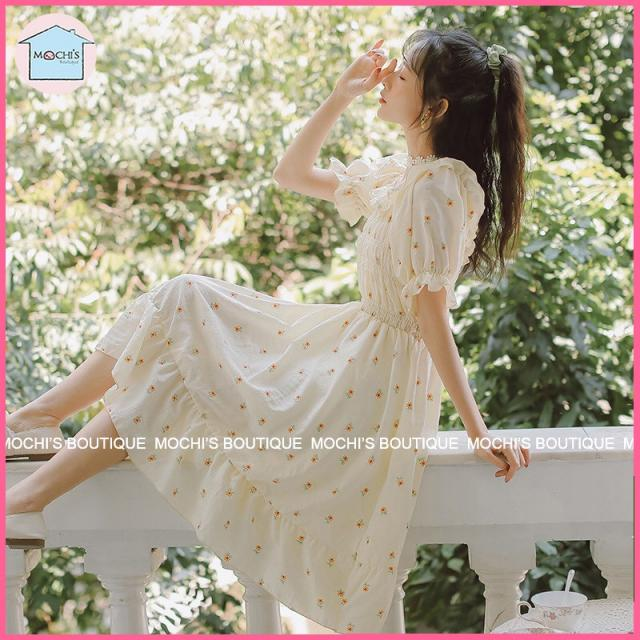clothes: (95, 148, 488, 545)
